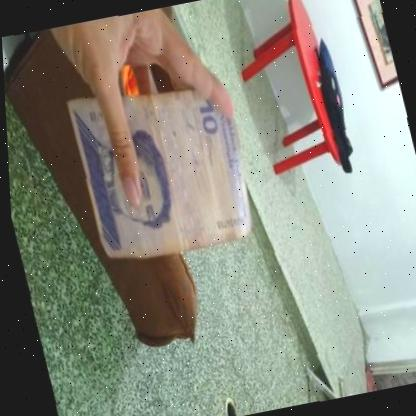ten-front-vef: (62, 70, 258, 266)
